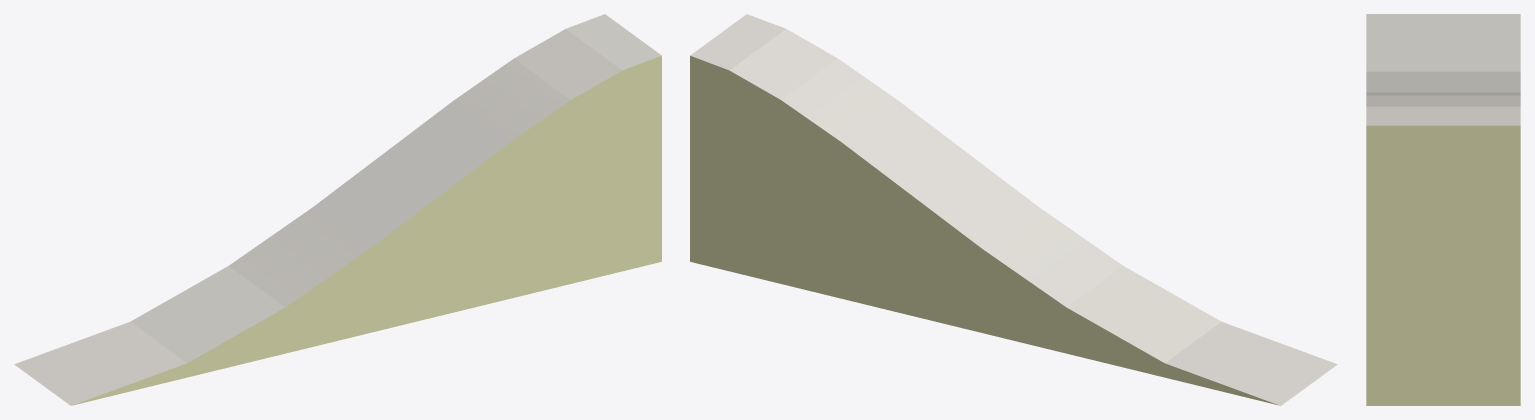
File: Floor_Incline_1x6.glb
3 views of the same model, side by side, from view 1: azimuth 30°, elevation 25°; view 2: azimuth 150°, elevation 25°; view 3: azimuth 270°, elevation 25° (orthographic). The views are drawn at different scales.
Visible parts, largest first — view 1: Floor_Incline_1x6; view 2: Floor_Incline_1x6; view 3: Floor_Incline_1x6.
Boxes of the visible parts, box(x1,y1,x2,y2) form: Floor_Incline_1x6: box(14, 14, 661, 405); Floor_Incline_1x6: box(690, 14, 1337, 405); Floor_Incline_1x6: box(1366, 14, 1520, 405).
Bounding box in the file's own units: 600 × 200 × 100.
